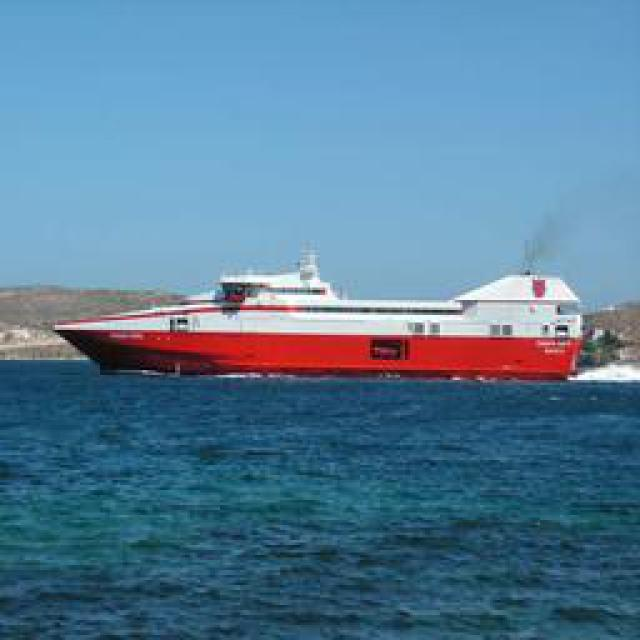Ship: (65, 248, 585, 383)
